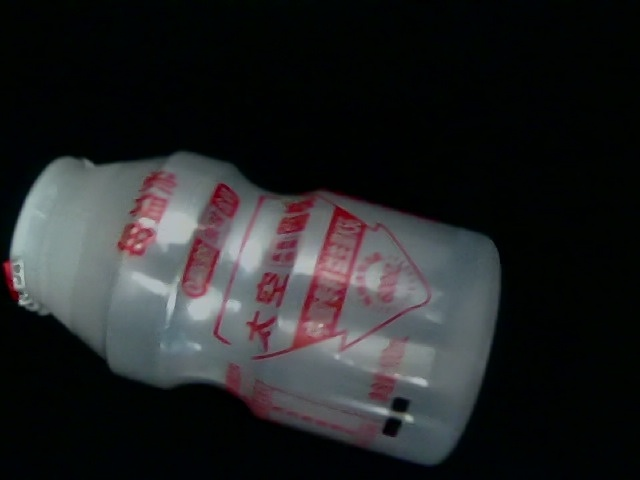CYLJ: (129, 1, 505, 257)
